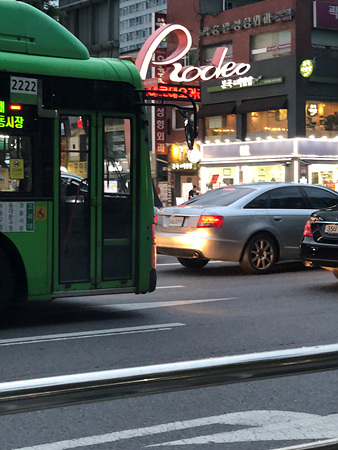entrance: (54, 105, 144, 298)
